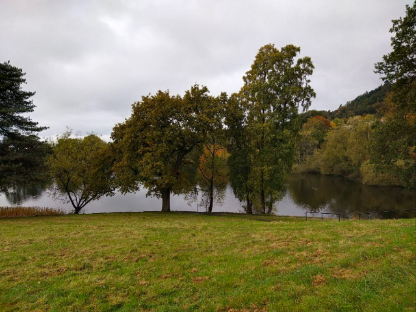tree: (219, 28, 331, 224), (106, 75, 213, 215), (46, 128, 110, 222)
